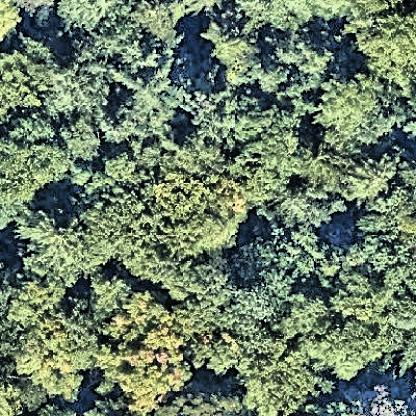tree-top: (197, 82, 298, 163), (103, 192, 196, 277), (150, 144, 242, 228), (182, 293, 262, 379), (15, 312, 99, 393), (332, 296, 416, 376), (315, 71, 396, 149), (20, 207, 104, 282), (115, 63, 196, 139), (88, 280, 168, 352), (238, 348, 320, 415), (346, 210, 416, 288), (108, 352, 192, 413), (33, 49, 107, 118), (239, 228, 313, 296), (2, 135, 62, 213), (355, 9, 415, 84), (270, 29, 342, 84), (4, 273, 71, 330), (1, 41, 49, 120), (206, 16, 267, 76), (271, 172, 333, 230), (273, 291, 333, 342), (344, 149, 399, 202), (59, 111, 109, 164), (233, 1, 315, 33), (6, 112, 64, 153), (84, 272, 132, 320), (54, 1, 128, 32), (133, 2, 182, 42), (159, 394, 244, 416), (353, 385, 413, 416), (99, 149, 145, 187), (1, 373, 35, 416), (172, 1, 230, 19), (1, 1, 21, 46), (82, 402, 130, 416)
